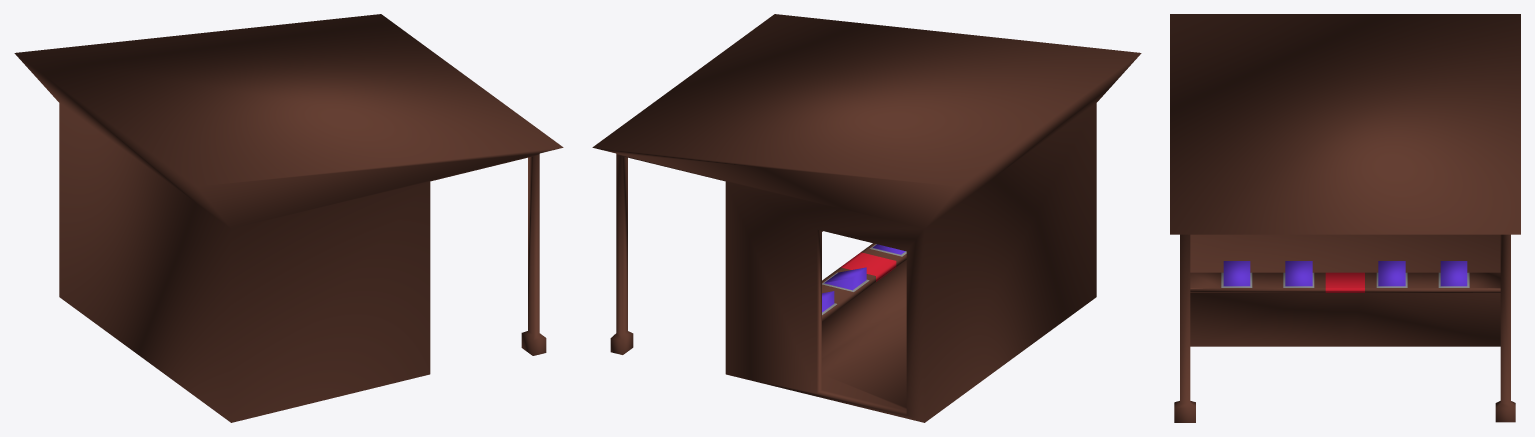
File: GeneralStore.fbx
3 views of the same model, side by side, from view 1: azimuth 30°, elevation 25°; view 2: azimuth 150°, elevation 25°; view 3: azimuth 270°, elevation 25° (orthographic). The views are drawn at different scales.
Parts seen in each view (by area): view 1: Cube; view 2: Cube; view 3: Cube.
Boxes of the visible parts, x1,y1,x2,y2 form: Cube: [14, 14, 563, 422]; Cube: [592, 14, 1141, 422]; Cube: [1170, 14, 1520, 422].
Size of the model in its own units: 1753 by 1158 by 1510.
